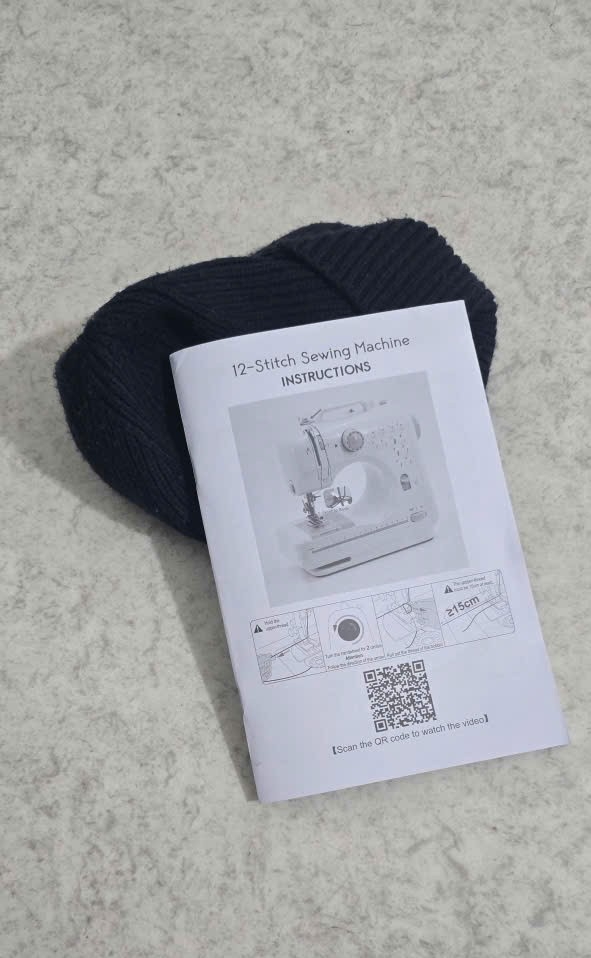paper: (166, 299, 570, 806)
